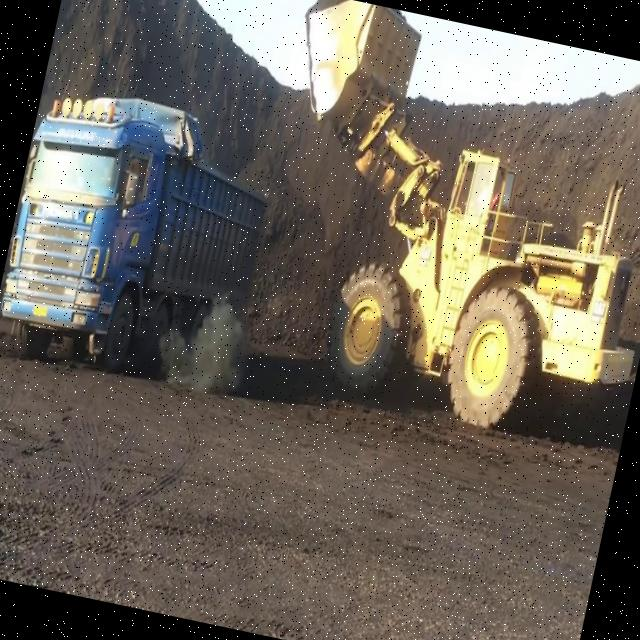Dump Truck: (0, 71, 287, 406)
Loader: (223, 0, 640, 456)
